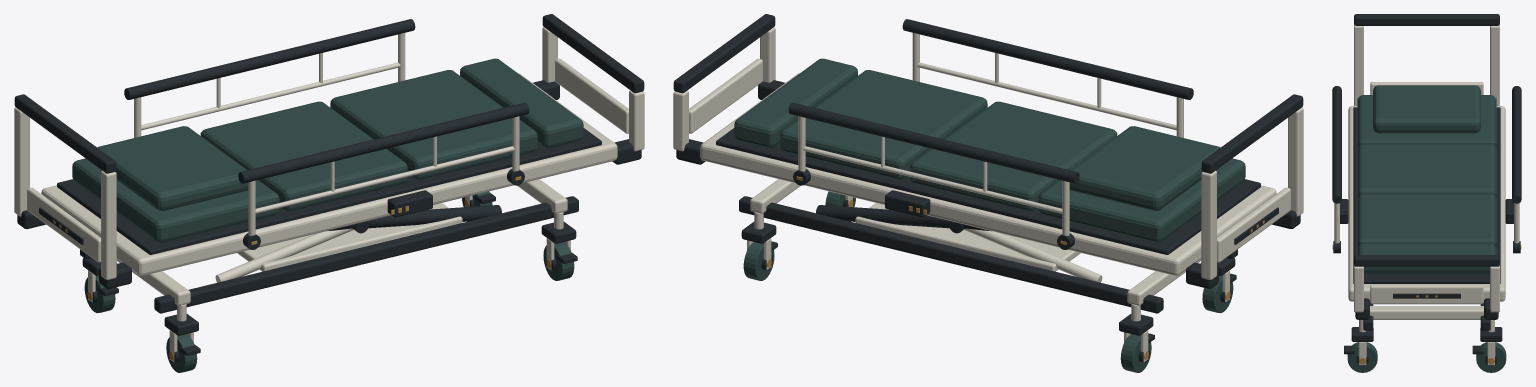
File: SM_Aurelion_KIT_Z08TreatmentTrolley.fbx
The picture shows the model from 3 angles, left to right: view 1: azimuth 30°, elevation 25°; view 2: azimuth 150°, elevation 25°; view 3: azimuth 270°, elevation 25°; orthographic projection. The views are drawn at different scales.
Parts seen in each view (by area): view 1: SM_Aurelion_KIT_Z08TreatmentTrolley; view 2: SM_Aurelion_KIT_Z08TreatmentTrolley; view 3: SM_Aurelion_KIT_Z08TreatmentTrolley.
Boxes of the visible parts, left/top/right/bottom form: SM_Aurelion_KIT_Z08TreatmentTrolley: left=14, top=14, right=644, bottom=372; SM_Aurelion_KIT_Z08TreatmentTrolley: left=673, top=14, right=1303, bottom=372; SM_Aurelion_KIT_Z08TreatmentTrolley: left=1332, top=14, right=1521, bottom=372.
Bounding box in the file's own units: 220 × 85 × 90.
